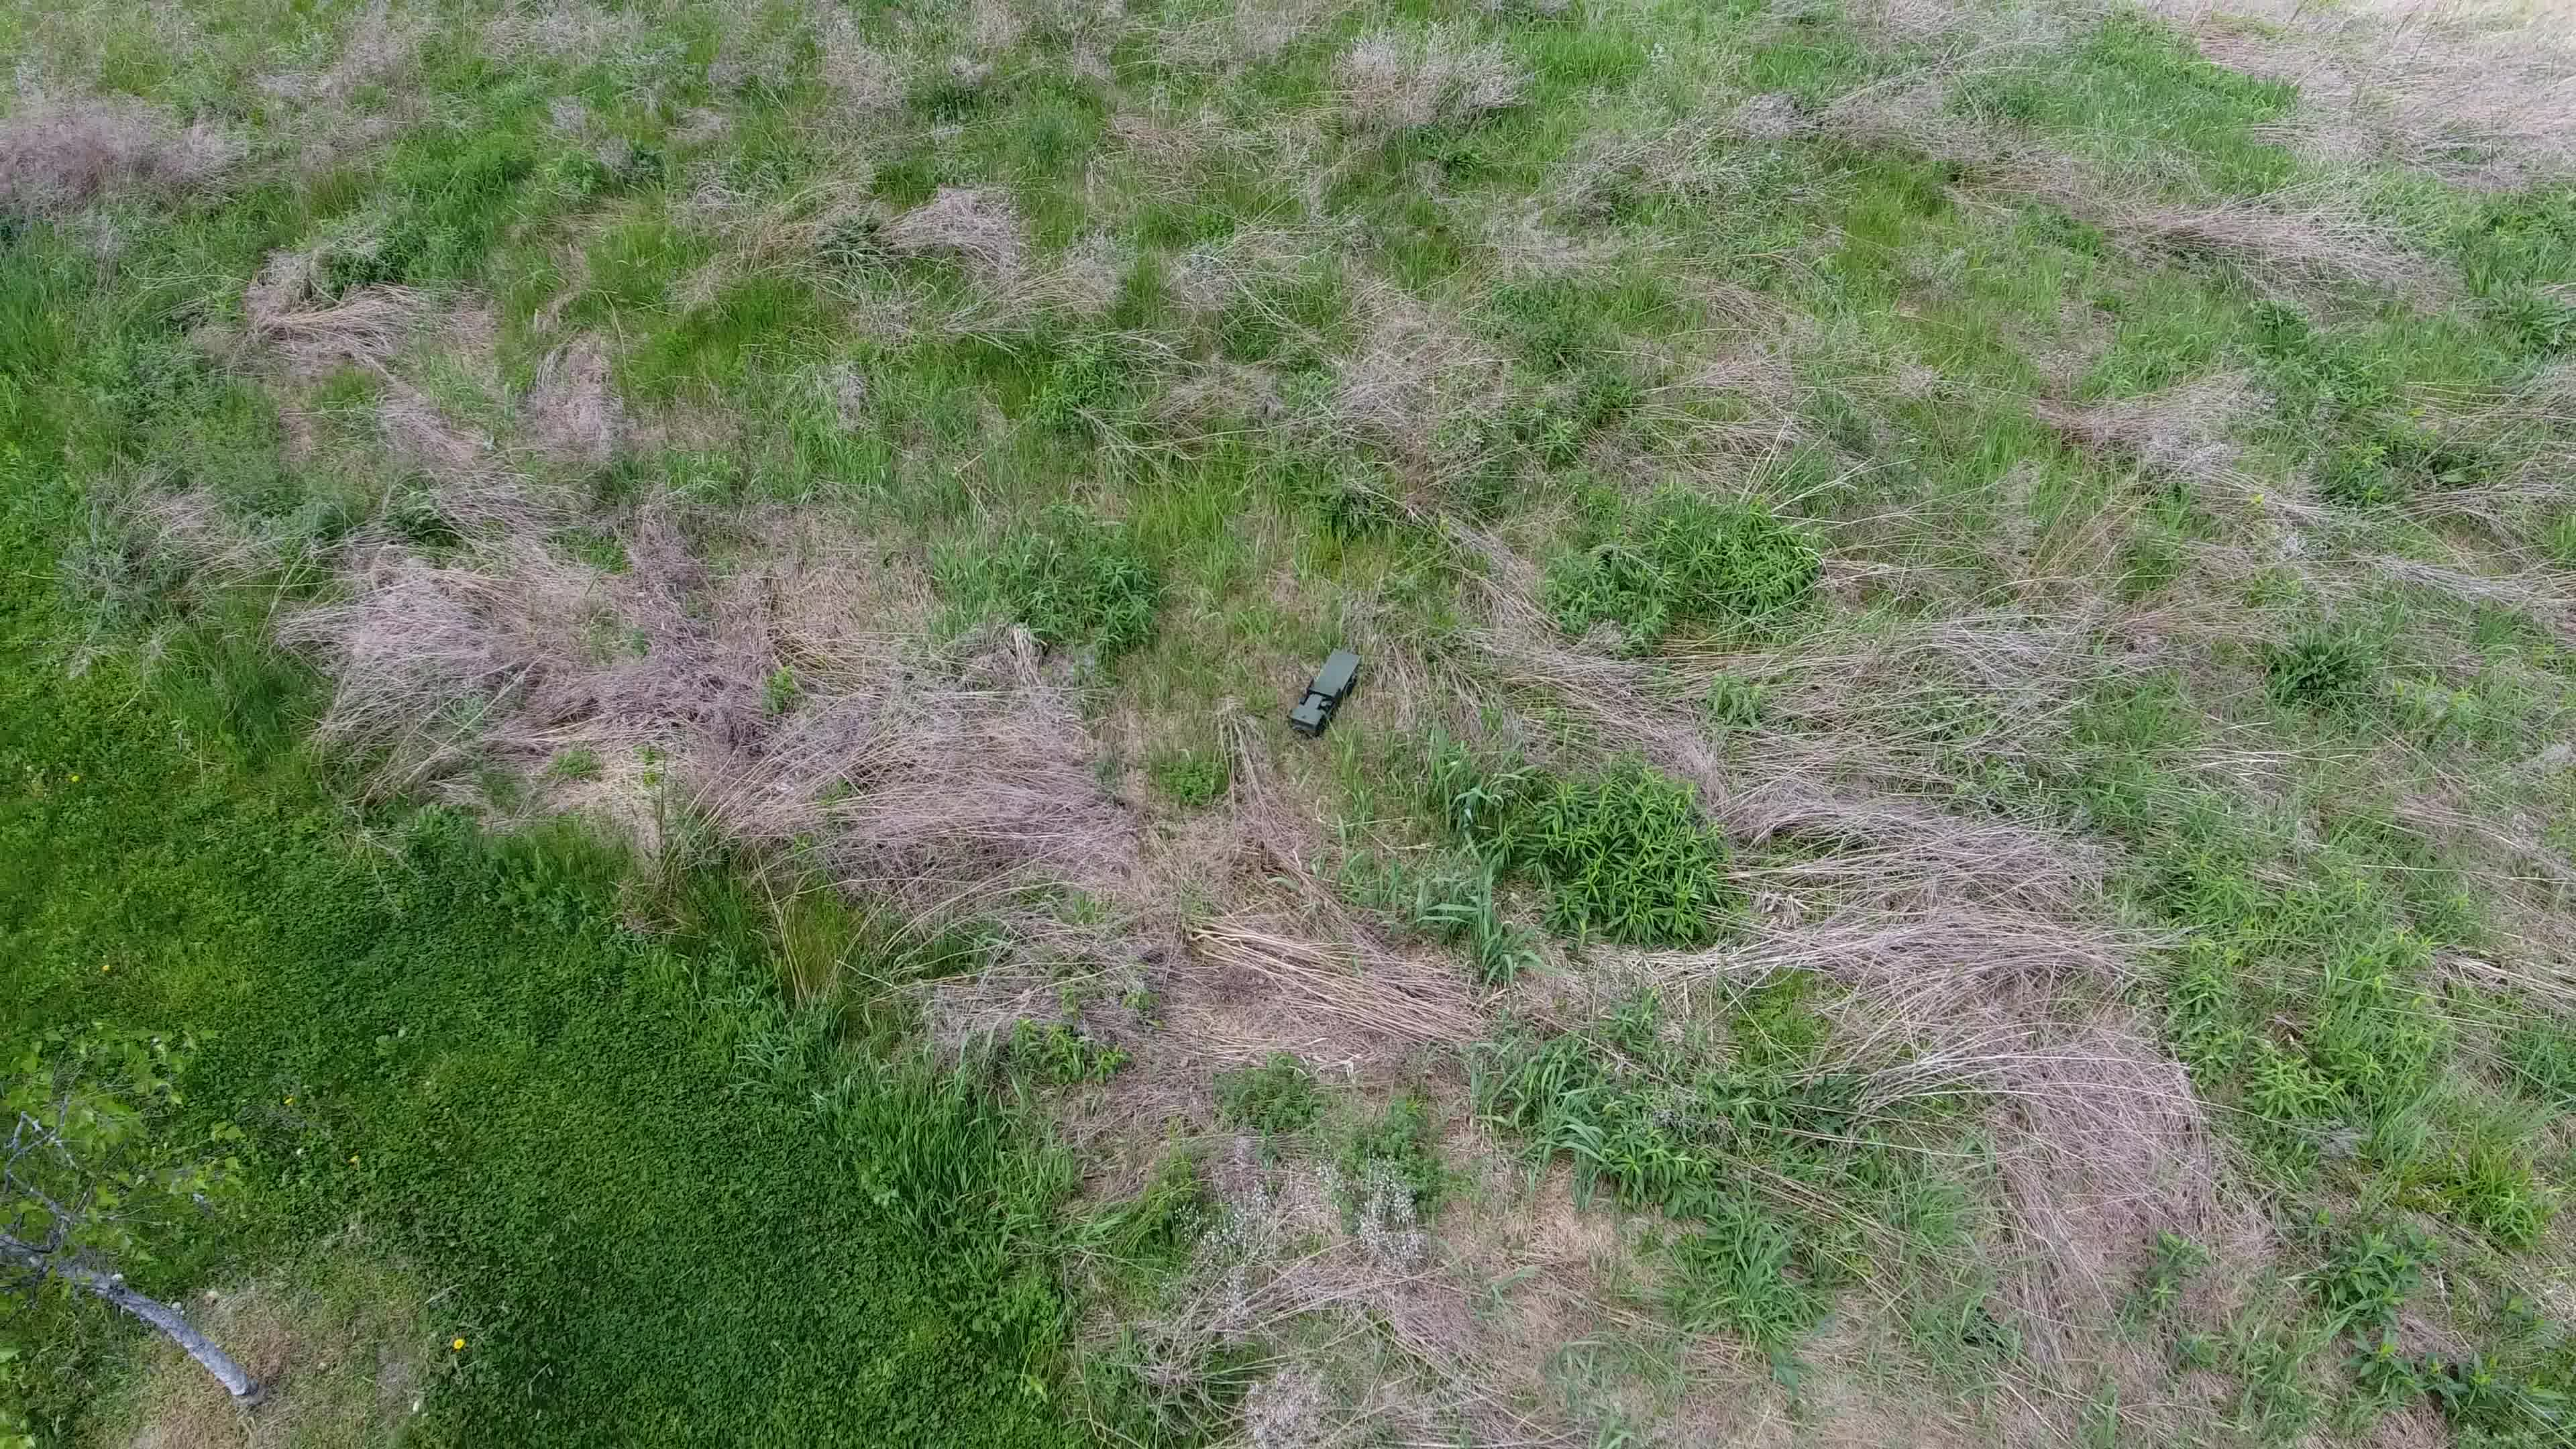transporter9: (1286, 642, 1364, 740)
